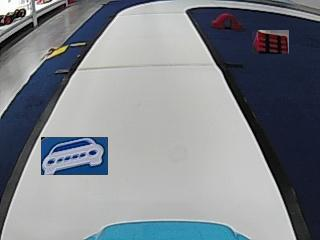bridge: (211, 13, 241, 29)
